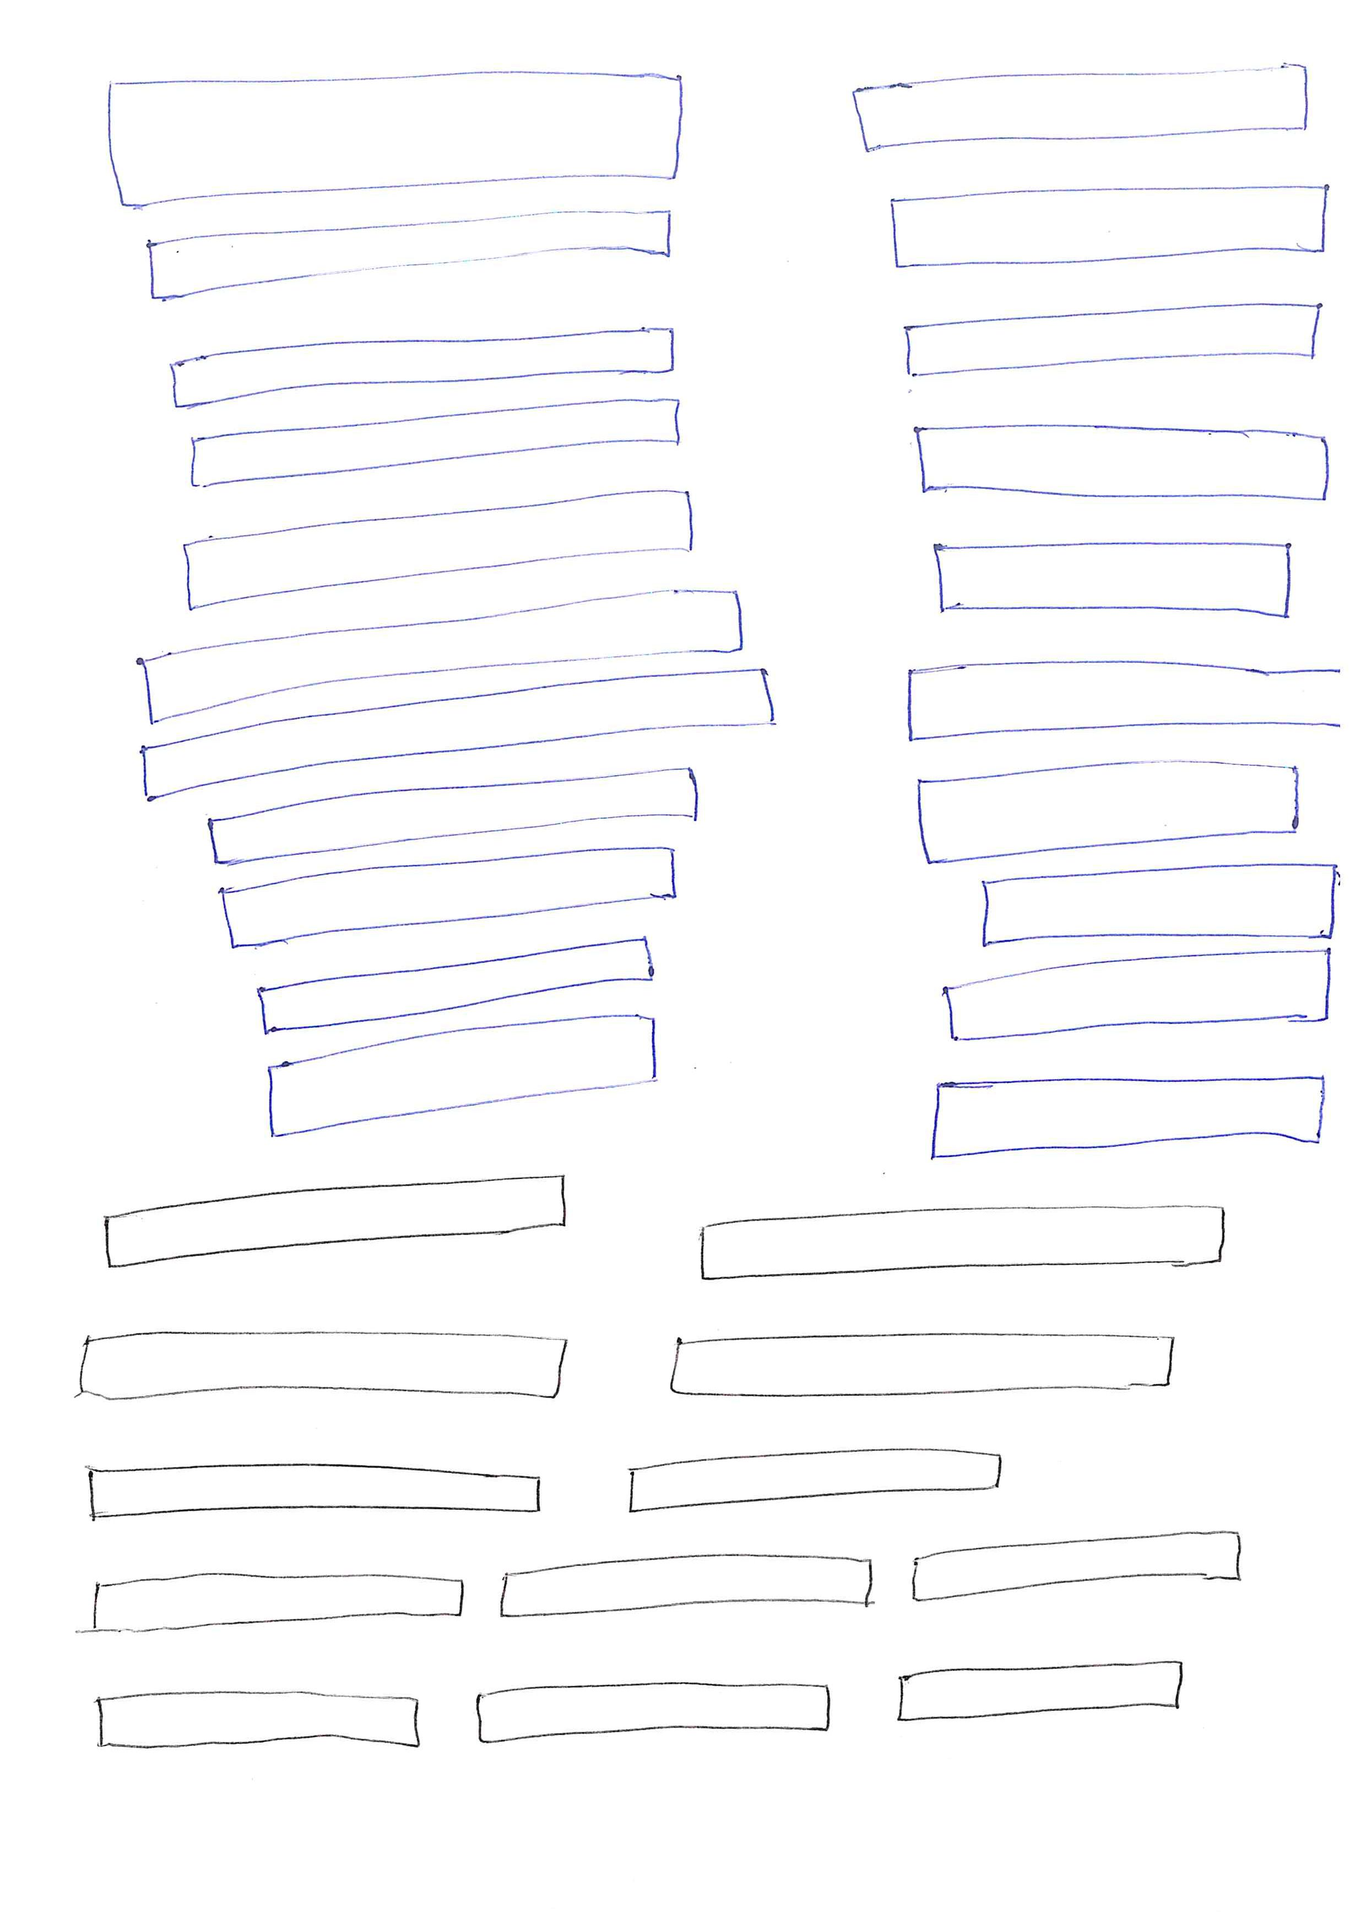Textbox: (179, 486, 696, 591), (140, 207, 676, 302), (183, 398, 684, 491), (102, 1172, 569, 1272), (169, 325, 676, 413), (693, 1201, 1227, 1283), (847, 64, 1308, 157), (914, 759, 1304, 863), (887, 179, 1332, 271), (937, 946, 1333, 1042), (927, 1069, 1328, 1164), (664, 1329, 1177, 1402), (912, 417, 1331, 504), (72, 1331, 568, 1402), (902, 299, 1326, 381), (977, 859, 1341, 952), (928, 537, 1297, 617), (84, 1461, 544, 1521), (909, 1527, 1248, 1606), (494, 1551, 874, 1621), (624, 1448, 1005, 1516), (86, 1572, 469, 1635), (472, 1683, 834, 1746), (95, 1689, 421, 1754), (894, 1657, 1186, 1725)
